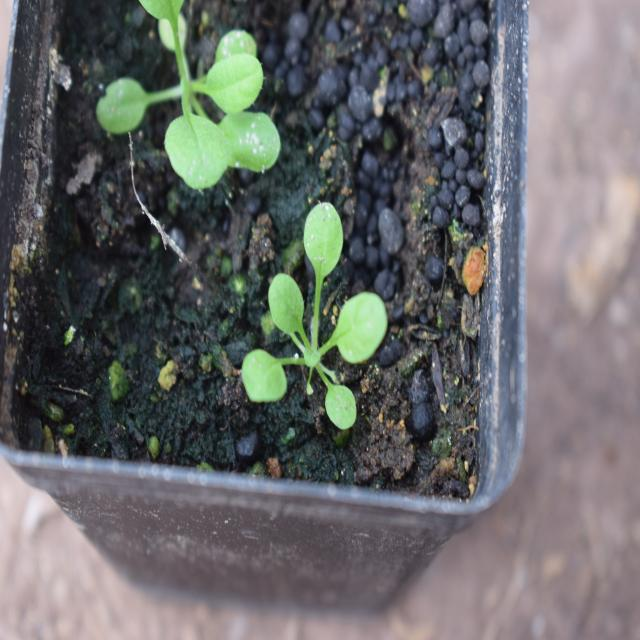Shepherd_Purse: (102, 1, 294, 200), (232, 200, 392, 420)
